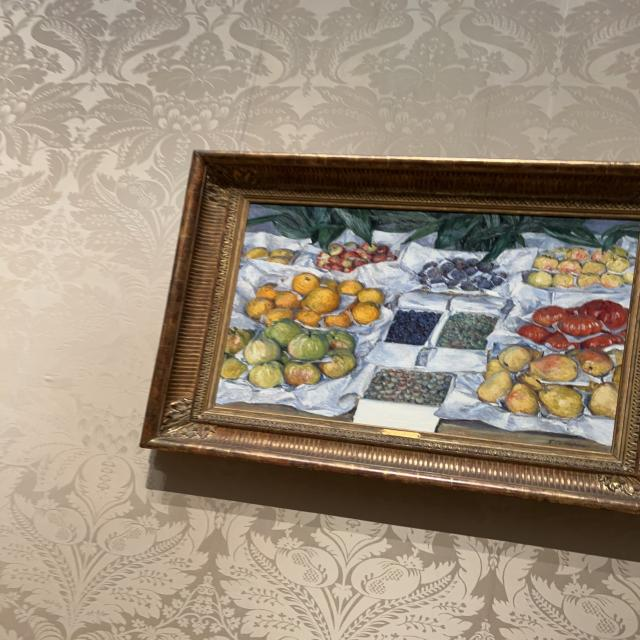fruits: (216, 209, 634, 449)
